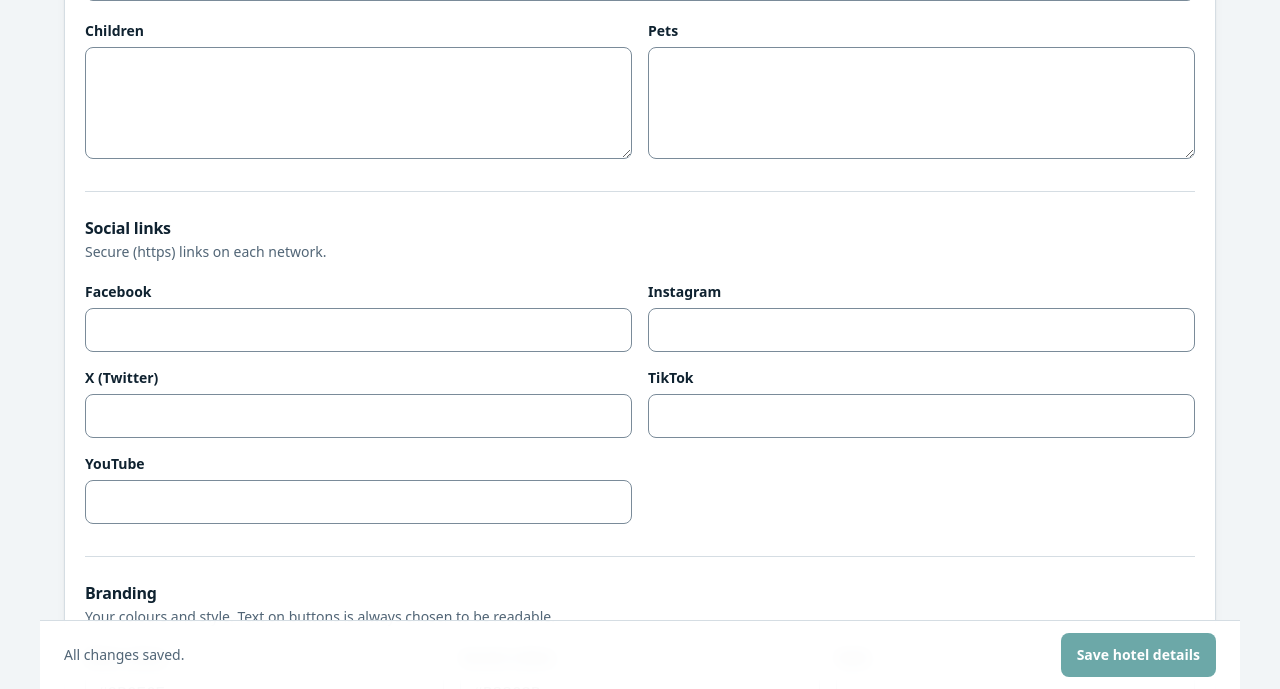
hotel details form › Instagram: shows a clear message and sends nothing
(page scrolled)
Type "https://instagram.com.evil.com/x" into the field labelled "Instagram".
click(922, 330); type("https://instagram.com.evil.com/x")  # box left=648, top=308, right=1195, bottom=352
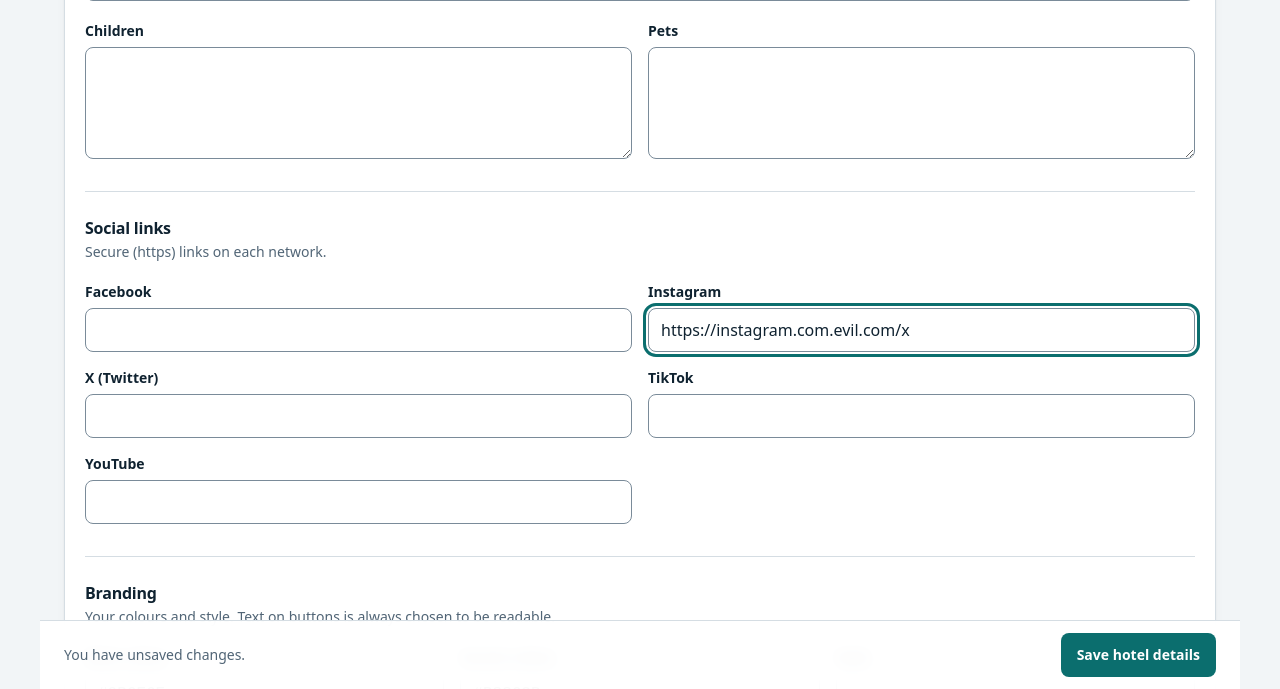
Click the button "Save hotel details".
click(1138, 655)  # box left=1061, top=633, right=1216, bottom=677
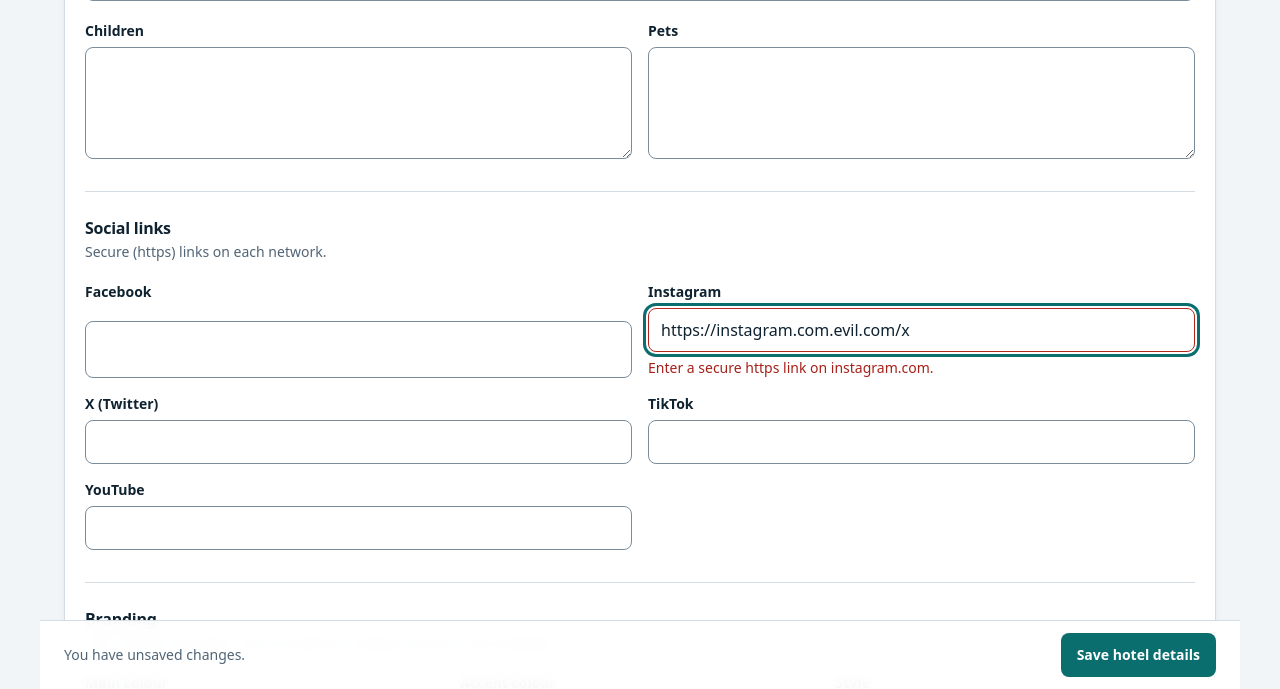
Check: the text "Enter a secure https link on instagram.com." is shown, box left=648, top=358, right=934, bottom=377
